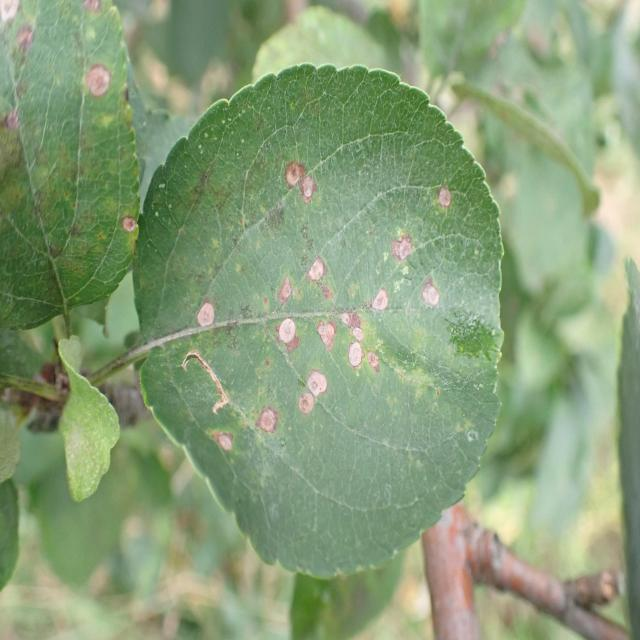frog-eye-leaf-spot: (133, 60, 505, 581), (0, 0, 142, 330)
